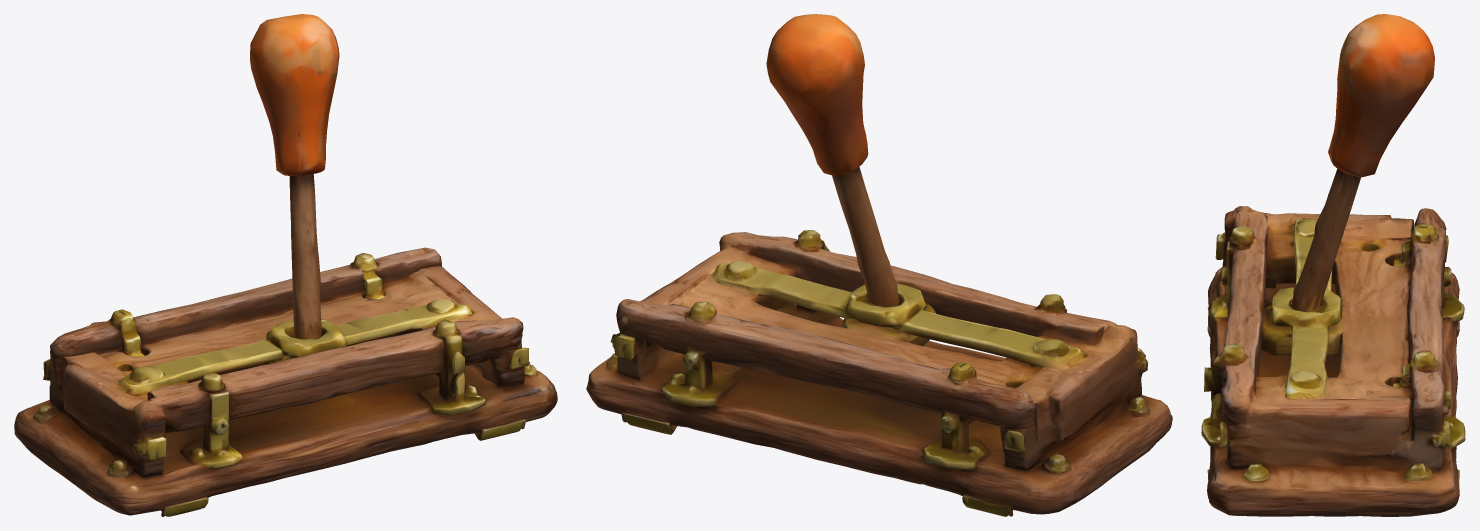
File: lever.glb
3 renders of one model, left to right at view 1: azimuth 30°, elevation 25°; view 2: azimuth 150°, elevation 25°; view 3: azimuth 270°, elevation 25°, orthographic. The views are drawn at different scales.
Parts seen in each view (by area): view 1: tripo_node_851bff93-4e04-4cd5-96a2-18391b0c2ff2; view 2: tripo_node_851bff93-4e04-4cd5-96a2-18391b0c2ff2; view 3: tripo_node_851bff93-4e04-4cd5-96a2-18391b0c2ff2.
Boxes of the visible parts, box(x1,y1,x2,y2) form: tripo_node_851bff93-4e04-4cd5-96a2-18391b0c2ff2: box(14, 14, 557, 516); tripo_node_851bff93-4e04-4cd5-96a2-18391b0c2ff2: box(586, 14, 1172, 516); tripo_node_851bff93-4e04-4cd5-96a2-18391b0c2ff2: box(1201, 14, 1465, 516).
Size of the model in its own units: 0.24 by 0.1986 by 0.1162.
Materials: 1 (1 with a texture image).
